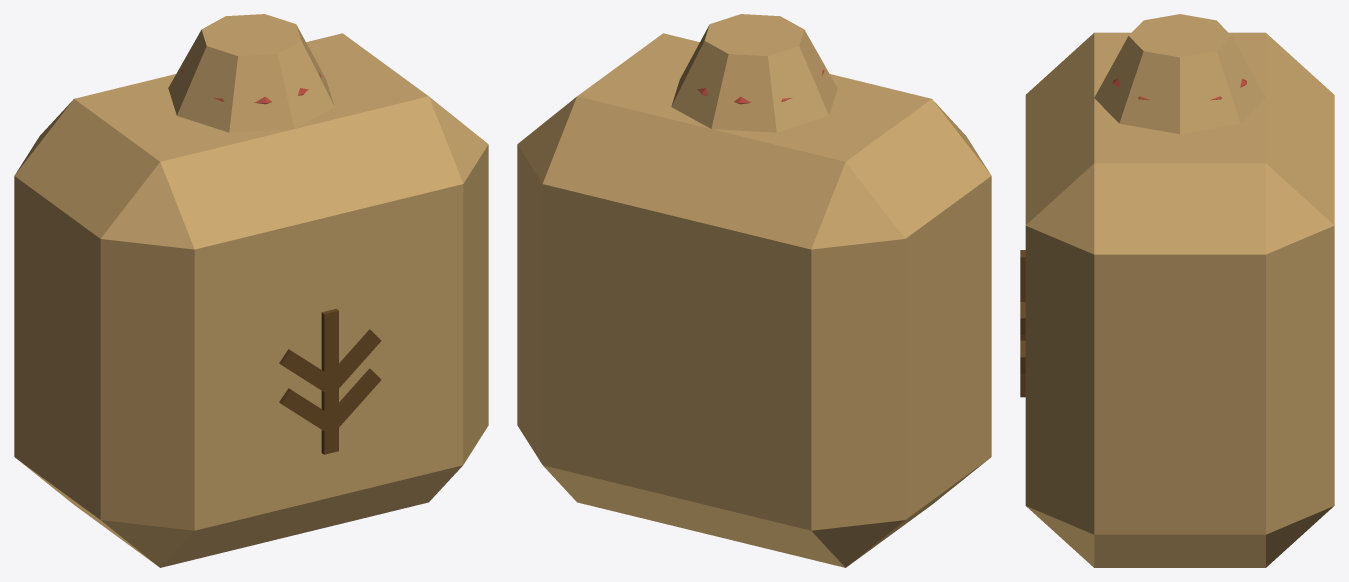
The model's file is grain_sack.glb.
3 views of the same model, side by side, from view 1: azimuth 30°, elevation 25°; view 2: azimuth 150°, elevation 25°; view 3: azimuth 270°, elevation 25° (orthographic).
Visible parts, largest first — view 1: grain_sack; view 2: grain_sack; view 3: grain_sack.
Part boxes in pixels (box(x1,y1,x2,y2)): grain_sack: box(14, 14, 488, 567); grain_sack: box(517, 14, 991, 567); grain_sack: box(1020, 14, 1334, 567).
Size of the model in its own units: 0.26 by 0.3 by 0.183.
